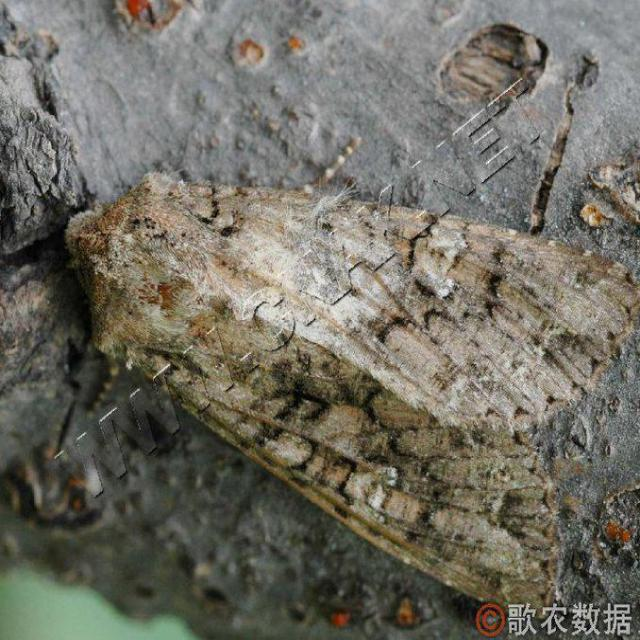armyworm: (37, 112, 640, 631)
